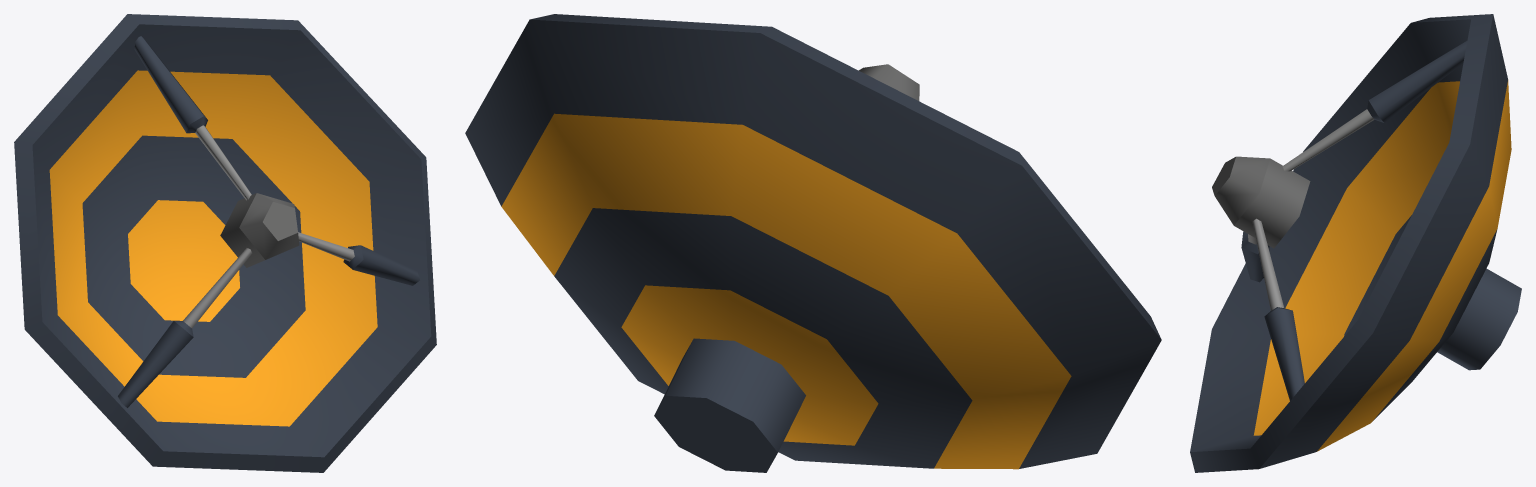
File: Antene_2_G_1.glb
3 views of the same model, side by side, from view 1: azimuth 30°, elevation 25°; view 2: azimuth 150°, elevation 25°; view 3: azimuth 270°, elevation 25° (orthographic). The views are drawn at different scales.
Parts seen in each view (by area): view 1: Antene_2_G_1; view 2: Antene_2_G_1; view 3: Antene_2_G_1.
Part boxes in pixels (x1,y1,x2,y2): Antene_2_G_1: (14, 14, 436, 472); Antene_2_G_1: (465, 14, 1161, 472); Antene_2_G_1: (1190, 14, 1521, 472).
Bounding box in the file's own units: 1.42 × 1.2 × 0.8478.
2 materials, 2 textured.
